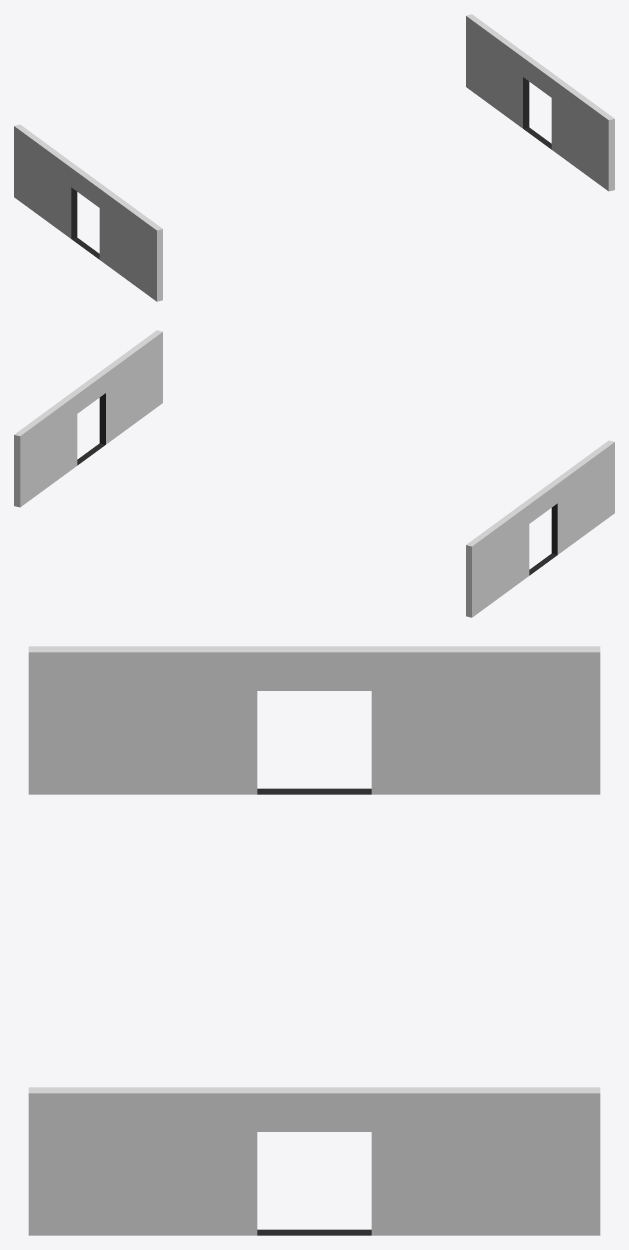
Rendered from Commons_Fill.fbx.
3 renders of one model, top to bottom at view 1: azimuth 30°, elevation 25°; view 2: azimuth 150°, elevation 25°; view 3: azimuth 270°, elevation 25°, orthographic. The views are drawn at different scales.
Visible parts, largest first — view 1: Commons_Fill; view 2: Commons_Fill; view 3: Commons_Fill.
Boxes of the visible parts, left/top/right/bottom form: Commons_Fill: left=14, top=14, right=614, bottom=301; Commons_Fill: left=14, top=330, right=614, bottom=617; Commons_Fill: left=28, top=646, right=600, bottom=1235.
Size of the model in its own units: 7400 by 1100 by 4000.
